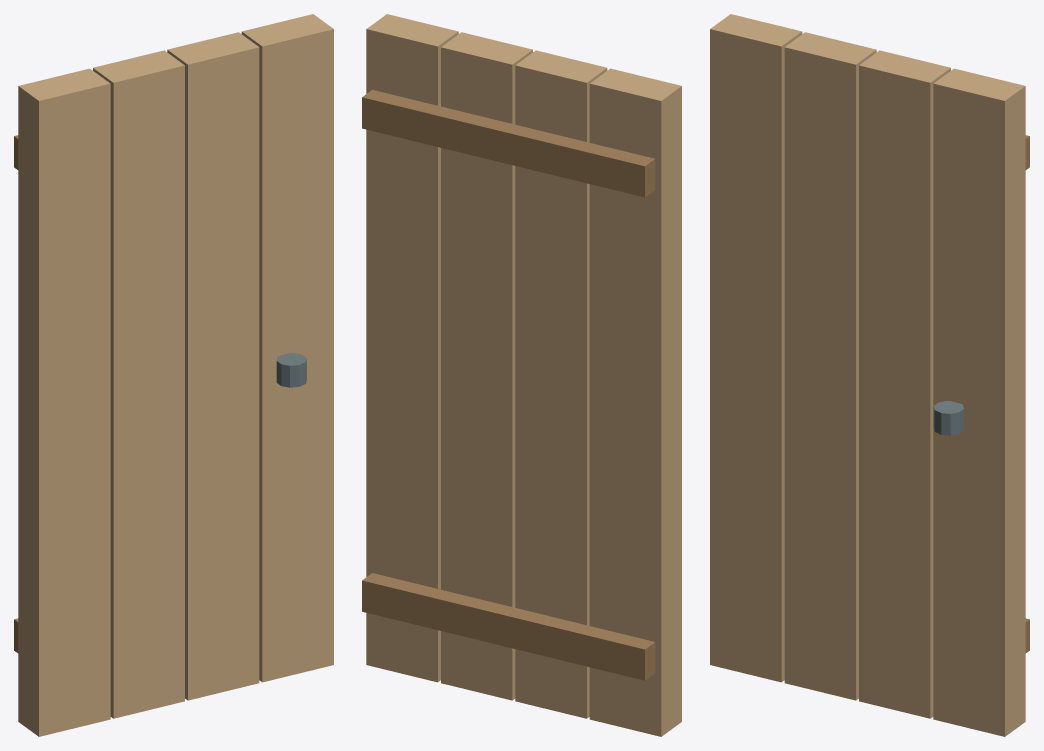
Rendered from campaign_door.glb.
3 views of the same model, side by side, from view 1: azimuth 30°, elevation 25°; view 2: azimuth 150°, elevation 25°; view 3: azimuth 330°, elevation 25° (orthographic).
Visible parts, largest first — view 1: campaign_door; view 2: campaign_door; view 3: campaign_door.
Part boxes in pixels (x1,y1,x2,y2): campaign_door: (14,14,333,736); campaign_door: (362,14,681,736); campaign_door: (710,14,1029,736).
Bounding box in the file's own units: 0.99 × 2.04 × 0.265.
